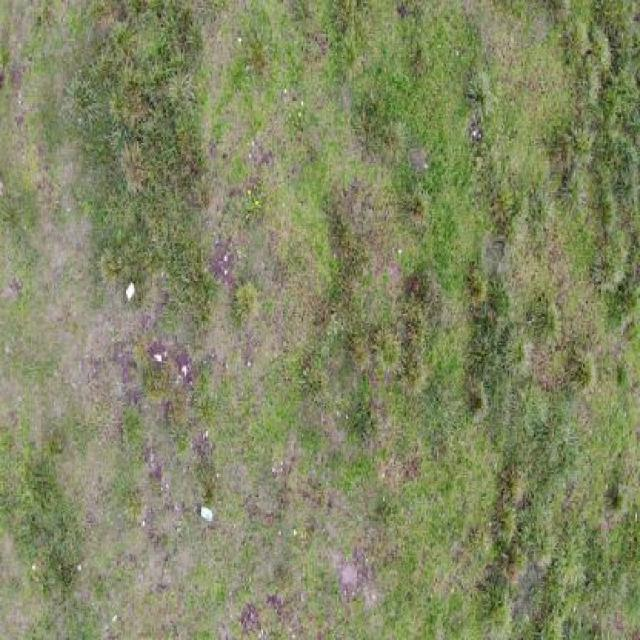Garbage: (125, 278, 137, 302), (200, 504, 214, 524)
